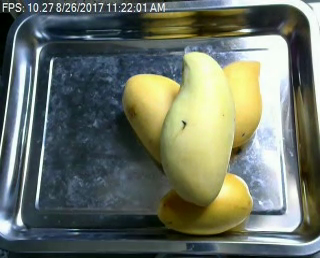Mango: (161, 52, 232, 202), (155, 173, 253, 235), (124, 72, 181, 165), (215, 60, 261, 148)
